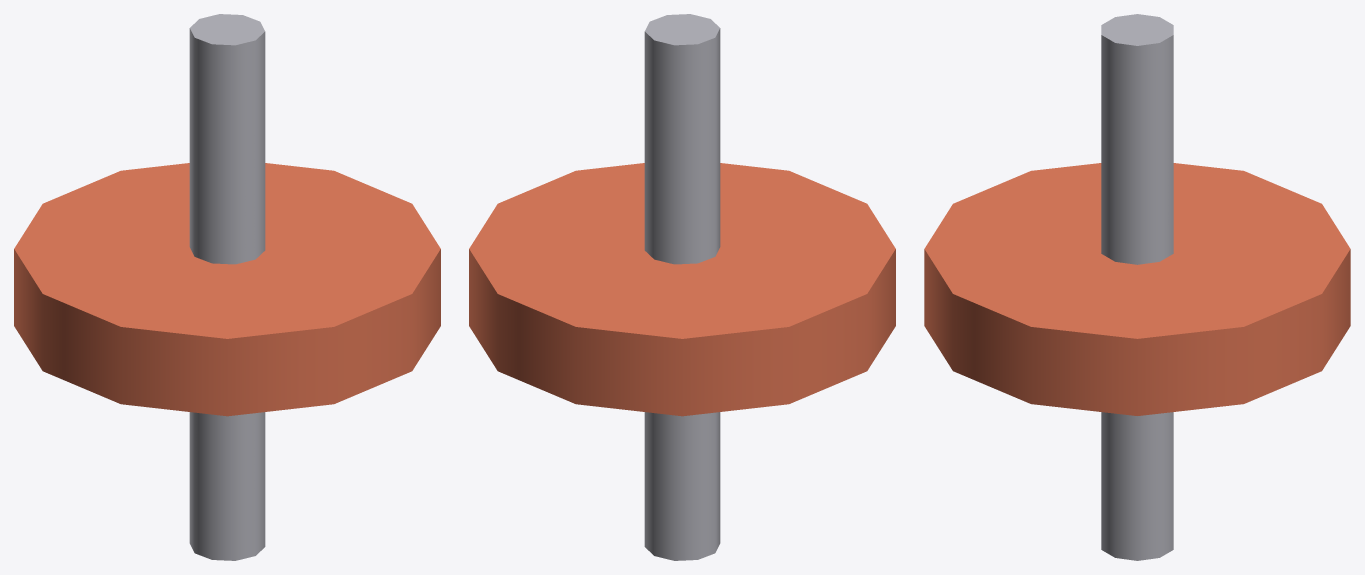
The model's file is gym.glb.
3 renders of one model, left to right at view 1: azimuth 30°, elevation 25°; view 2: azimuth 150°, elevation 25°; view 3: azimuth 270°, elevation 25°, orthographic.
Parts seen in each view (by area): view 1: Mesh; view 2: Mesh; view 3: Mesh.
Boxes of the visible parts, left/top/right/bottom form: Mesh: left=14, top=14, right=440, bottom=560; Mesh: left=469, top=14, right=895, bottom=560; Mesh: left=924, top=14, right=1350, bottom=560.
Size of the model in its own units: 0.9 by 1.2 by 0.9.
